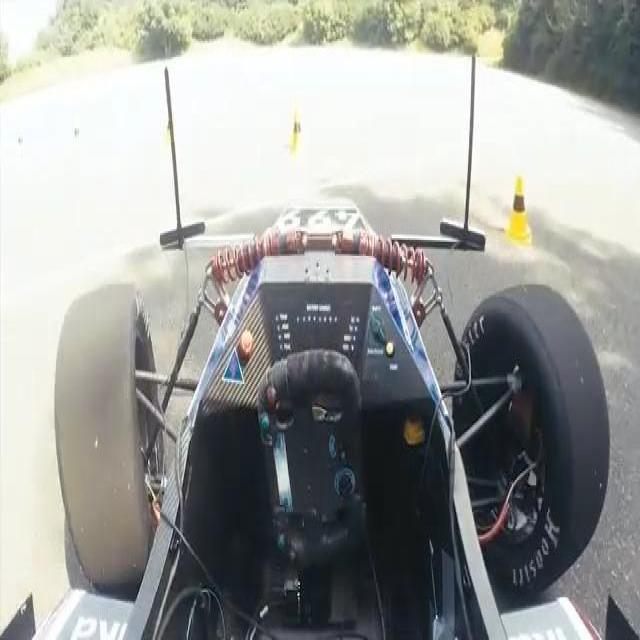yellow_cone: (505, 163, 534, 244), (289, 108, 307, 160), (162, 114, 176, 153), (69, 126, 81, 158), (16, 139, 26, 168)
